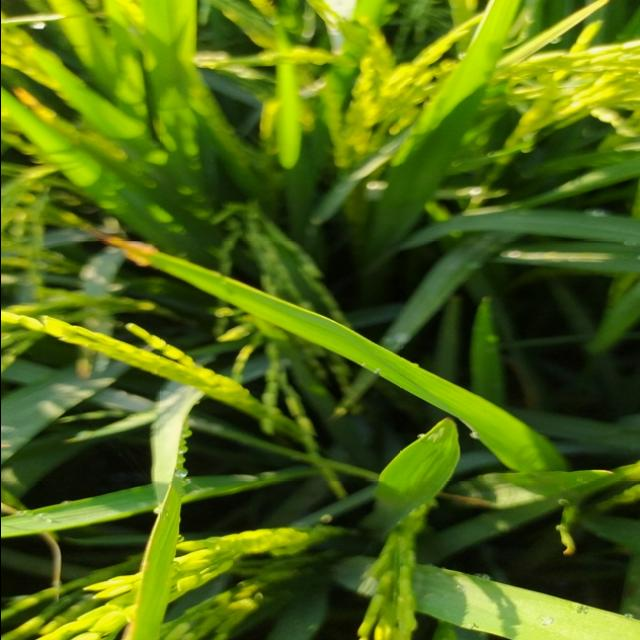Brown spot: (86, 233, 173, 274)
